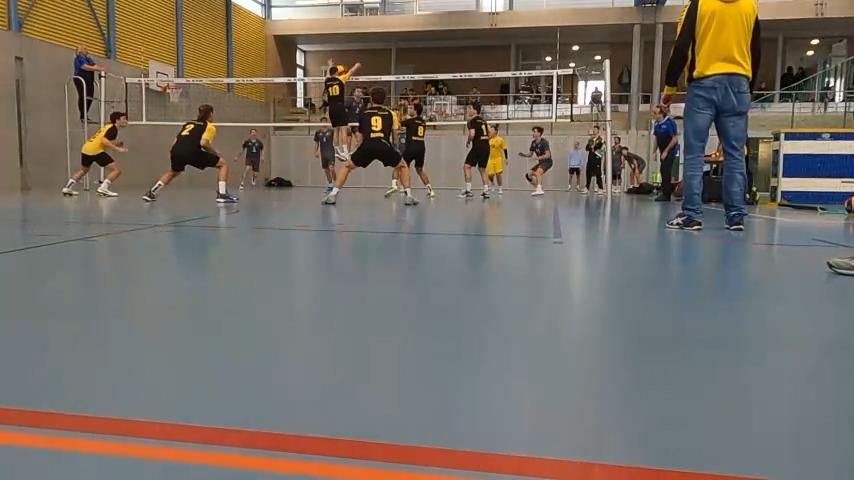muro: (317, 57, 365, 163)
